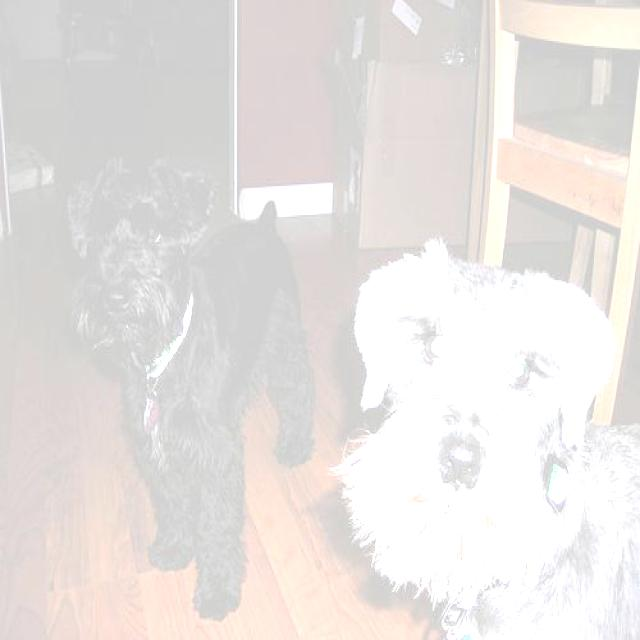Dog: (315, 223, 640, 640), (71, 148, 316, 595)
